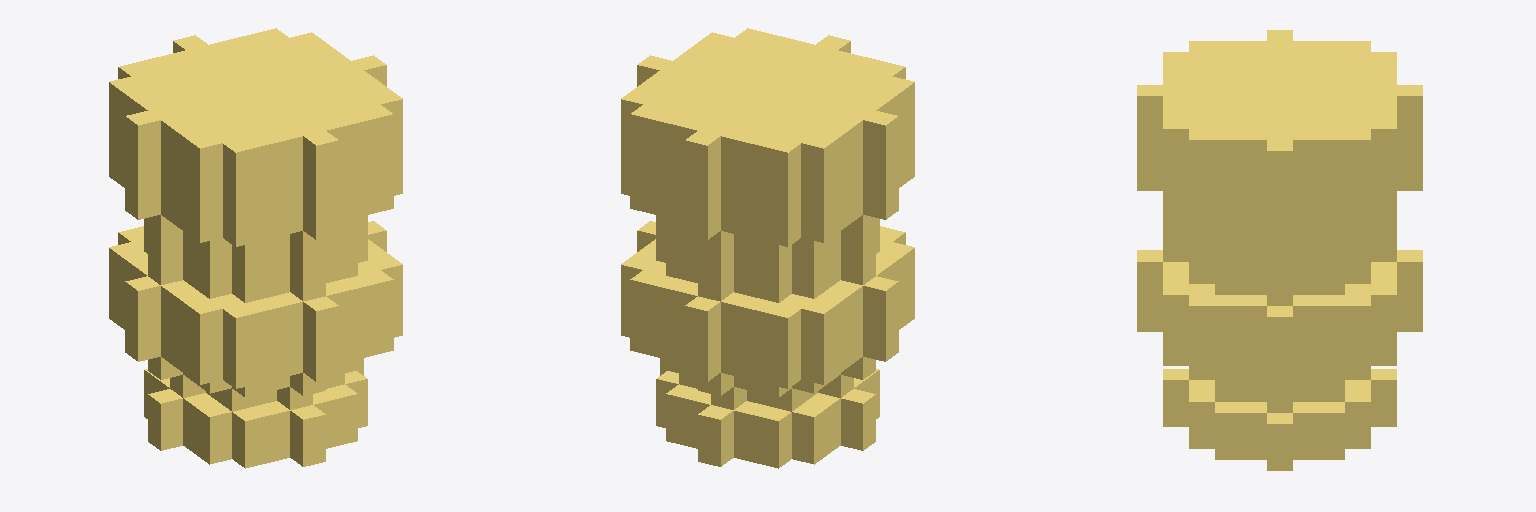
3 renders of one model, left to right at view 1: azimuth 30°, elevation 25°; view 2: azimuth 150°, elevation 25°; view 3: azimuth 270°, elevation 25°, orthographic.
Size of the model in its own units: 11 by 14 by 11.
1 materials, 1 textured.